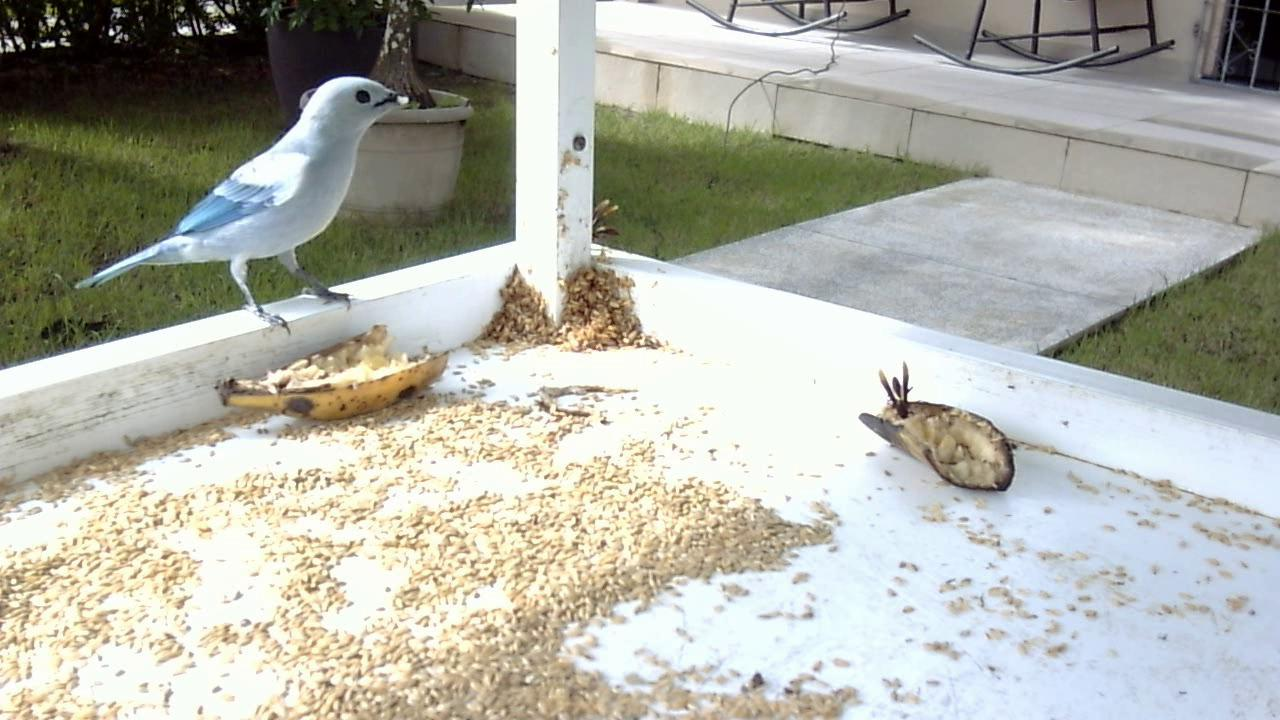sanhaco_da_amazonia: (74, 74, 406, 337)
